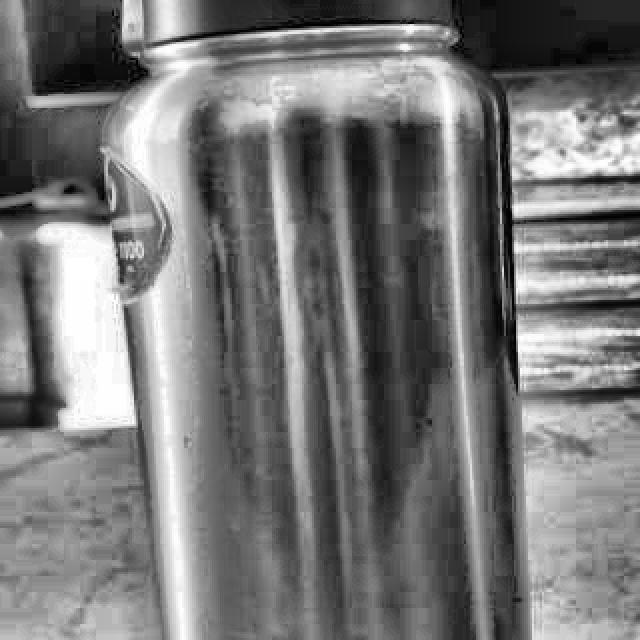bottle: (98, 0, 532, 640)
